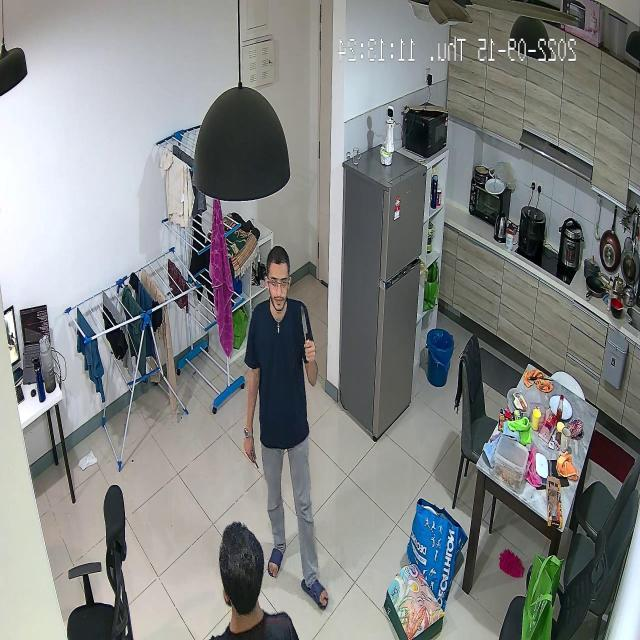Knife: (298, 304, 325, 357)
